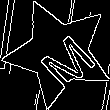M_NW: (24, 19, 93, 87)
